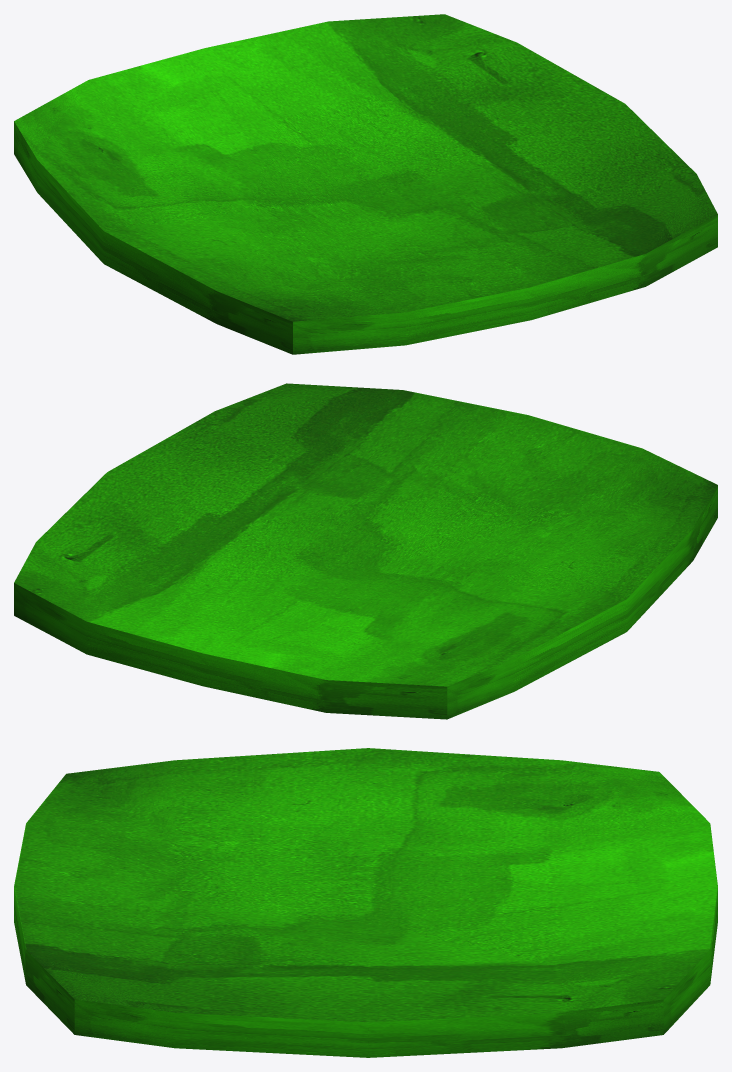
Rendered from groen platform.FBX.
3 renders of one model, top to bottom at view 1: azimuth 30°, elevation 25°; view 2: azimuth 150°, elevation 25°; view 3: azimuth 270°, elevation 25°, orthographic. The views are drawn at different scales.
Visible parts, largest first — view 1: Box005; view 2: Box005; view 3: Box005.
Part boxes in pixels (x1,y1,x2,y2): Box005: (14,14,717,354); Box005: (14,383,717,719); Box005: (14,748,717,1057).
Bounding box in the file's own units: 306 × 37.96 × 332.
